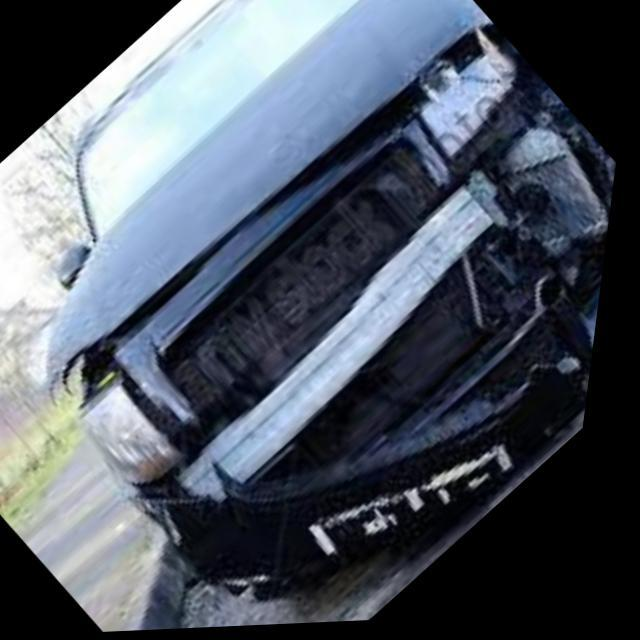crash: (54, 0, 621, 599)
